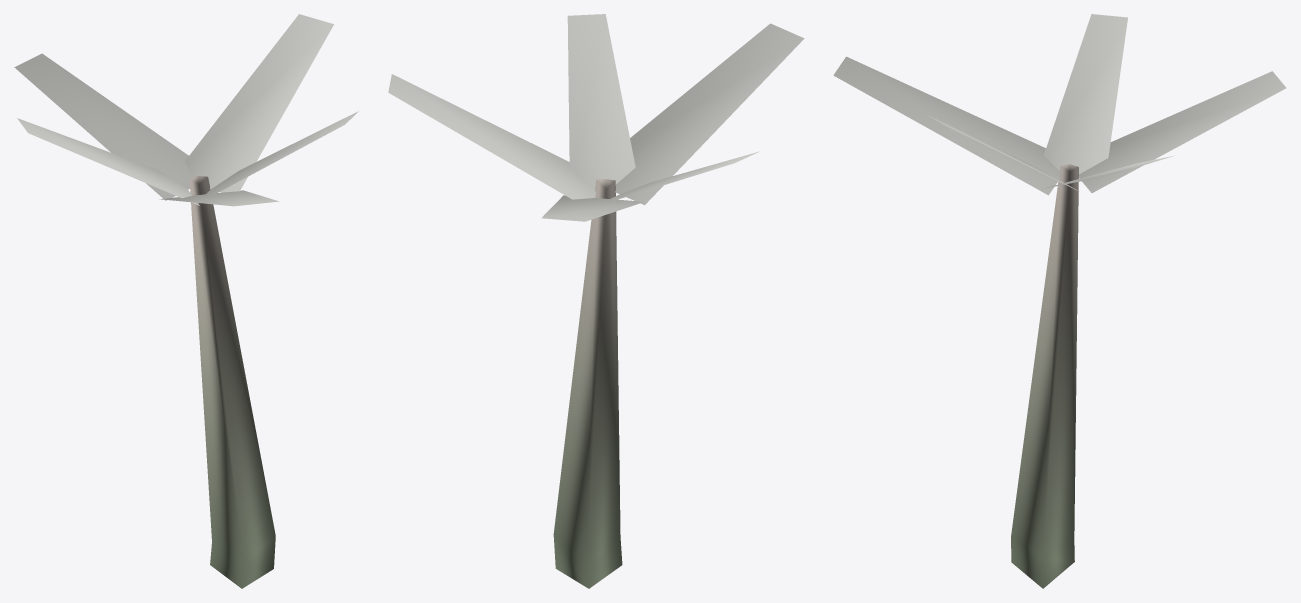
The model's file is treeFernA_lod2.glb.
The picture shows the model from 3 angles, left to right: view 1: azimuth 30°, elevation 25°; view 2: azimuth 150°, elevation 25°; view 3: azimuth 270°, elevation 25°; orthographic projection. The views are drawn at different scales.
Visible parts, largest first — view 1: treeFernA_lod2; view 2: treeFernA_lod2; view 3: treeFernA_lod2.
Boxes of the visible parts, x1=… form: treeFernA_lod2: x1=14, y1=14, x2=358, y2=588; treeFernA_lod2: x1=388, y1=14, x2=804, y2=588; treeFernA_lod2: x1=833, y1=14, x2=1286, y2=588.
Size of the model in its own units: 3.79 by 5.32 by 4.55.
